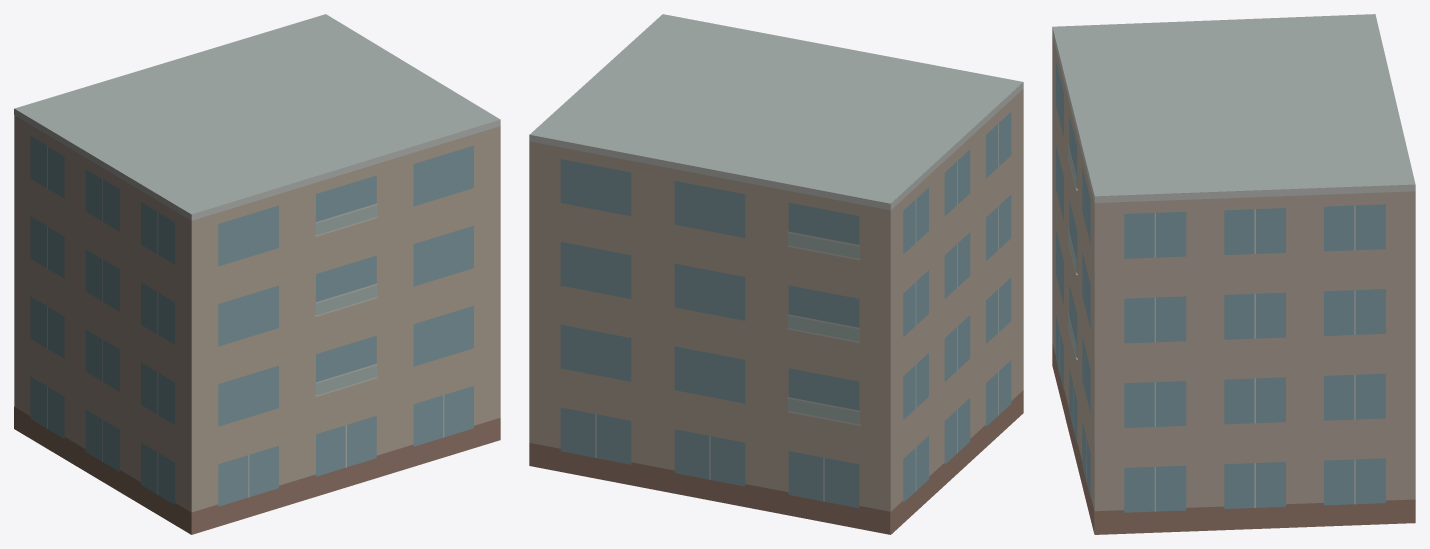
Rendered from survey-upis-32960298.glb.
3 views of the same model, side by side, from view 1: azimuth 30°, elevation 25°; view 2: azimuth 150°, elevation 25°; view 3: azimuth 270°, elevation 25° (orthographic). The views are drawn at different scales.
Visible parts, largest first — view 1: survey-upis-32960298.tmp; view 2: survey-upis-32960298.tmp; view 3: survey-upis-32960298.tmp.
Boxes of the visible parts, box(x1,y1,x2,y2) form: survey-upis-32960298.tmp: box(14, 14, 500, 534); survey-upis-32960298.tmp: box(529, 14, 1023, 534); survey-upis-32960298.tmp: box(1052, 14, 1415, 534).
Bounding box in the file's own units: 14.1 × 12.2 × 11.87.
